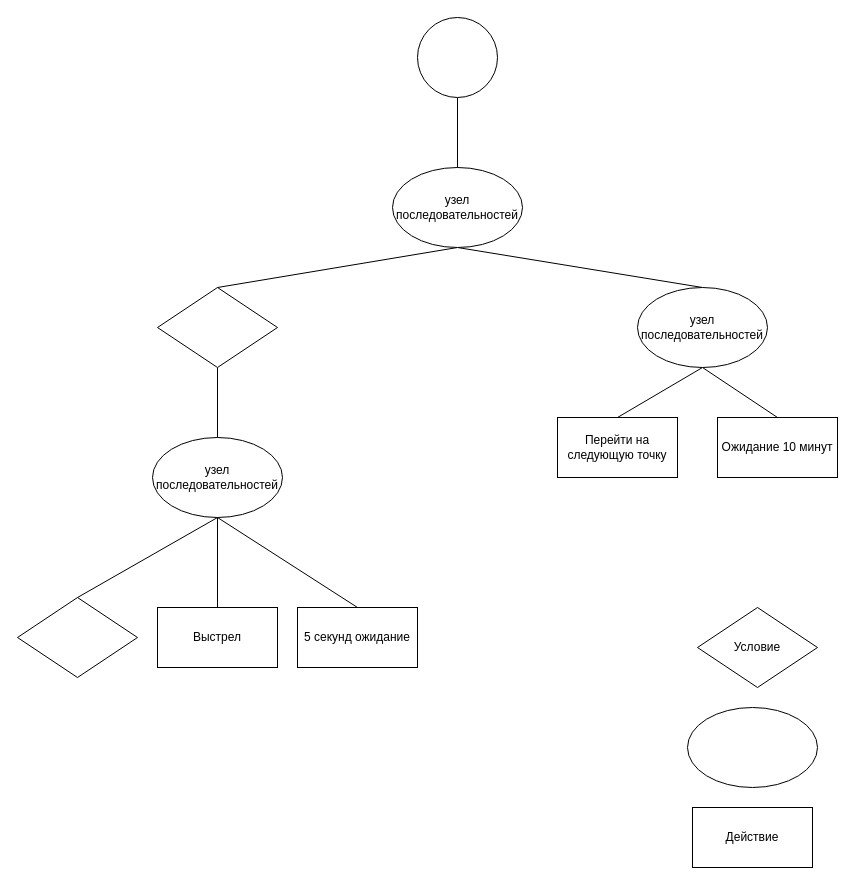
The diagram is 855 pixels wide and 885 high, and some of its shapes have lost their labels. The centre of each missing label's shape, as x and y in pixels:
root: point 457,57
Враг обнаружен?: point 217,327
Меньше 10 выстрелов?: point 77,637
Узел: point 752,747
